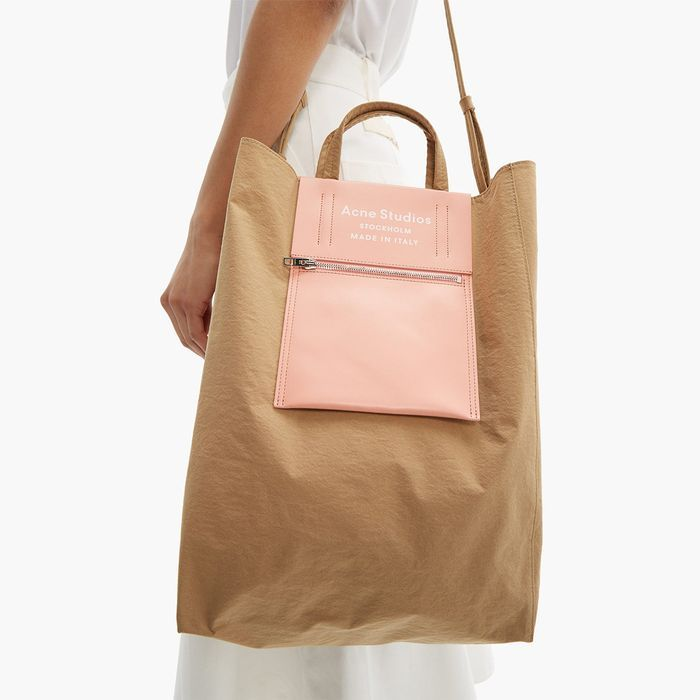nylon: (176, 101, 542, 649)
